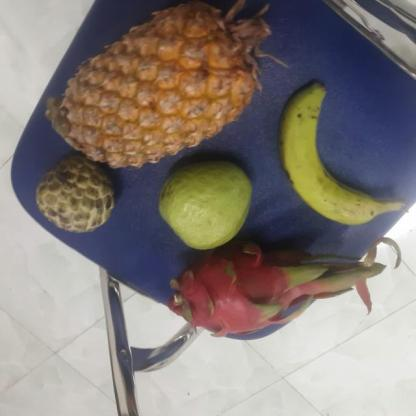annona: (36, 155, 121, 232)
banana: (280, 84, 391, 224)
guava: (155, 159, 255, 251)
pineapple: (58, 7, 268, 163)
pitaya: (170, 241, 327, 343)
